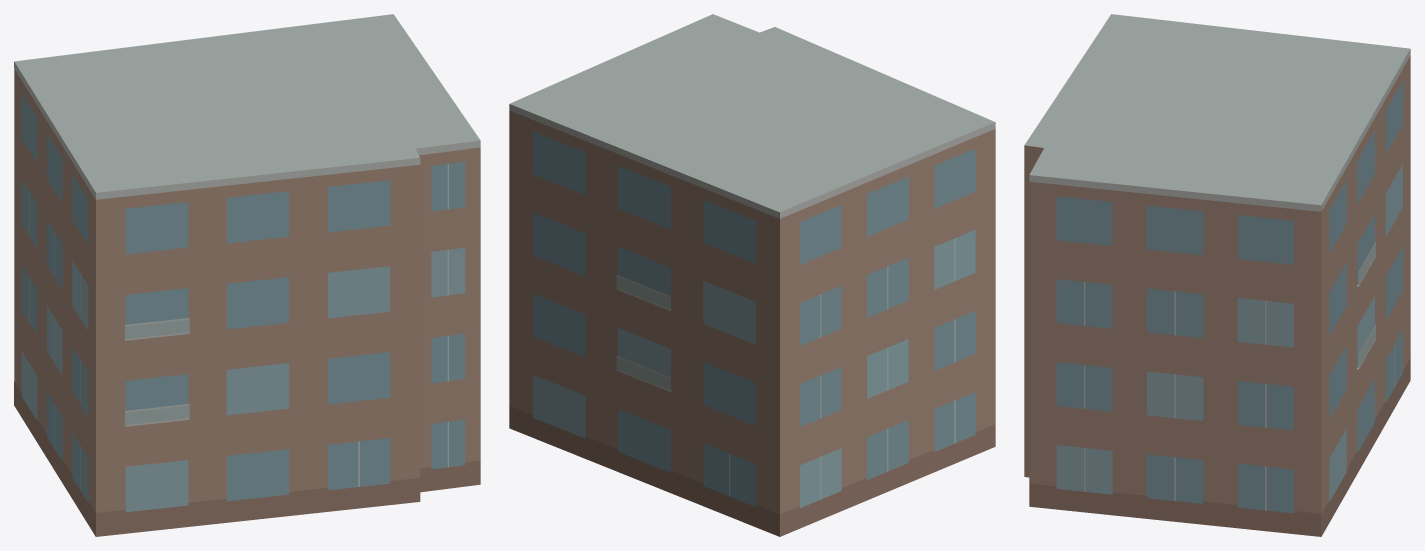
Rendered from survey-upis-32673616.glb.
3 views of the same model, side by side, from view 1: azimuth 30°, elevation 25°; view 2: azimuth 150°, elevation 25°; view 3: azimuth 270°, elevation 25° (orthographic). The views are drawn at different scales.
Visible parts, largest first — view 1: survey-upis-32673616.tmp; view 2: survey-upis-32673616.tmp; view 3: survey-upis-32673616.tmp.
Boxes of the visible parts, x1,y1,x2,y2 form: survey-upis-32673616.tmp: [14, 14, 480, 536]; survey-upis-32673616.tmp: [509, 14, 995, 536]; survey-upis-32673616.tmp: [1024, 14, 1410, 536].
Size of the model in its own units: 15.1 by 12.2 by 12.89.
